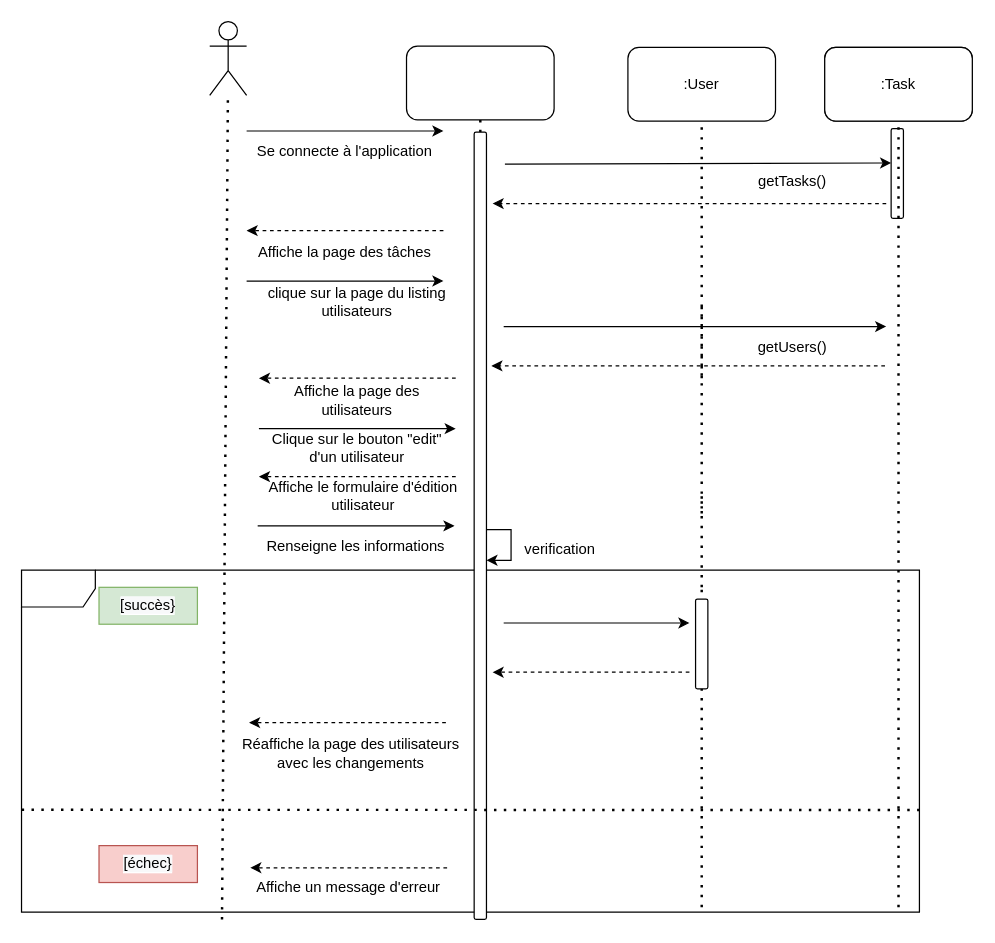
Some shapes in this 995 by 943 pixel diagram are drawn without their labels. The box of each missing label's shape, as (x1, y1, x2, y2) in pixels:
:System: (405, 45, 554, 120)
Admin: (208, 20, 247, 95)
Alt: (20, 569, 919, 912)
